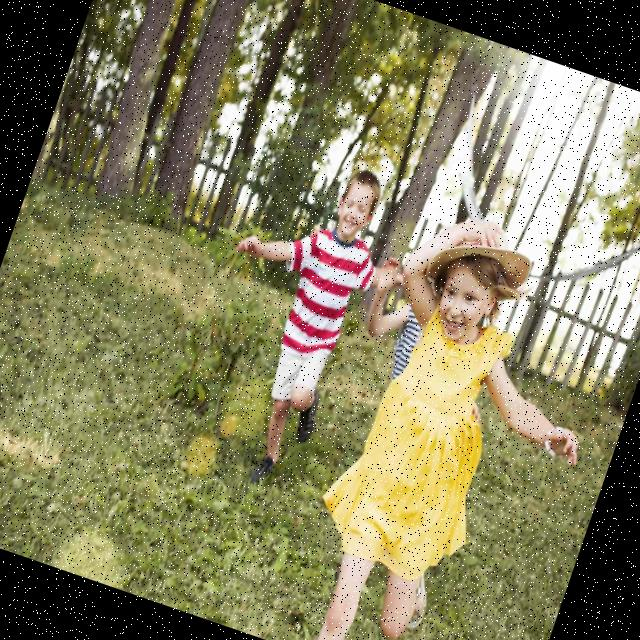Person: (271, 196, 640, 640), (165, 136, 441, 513)
